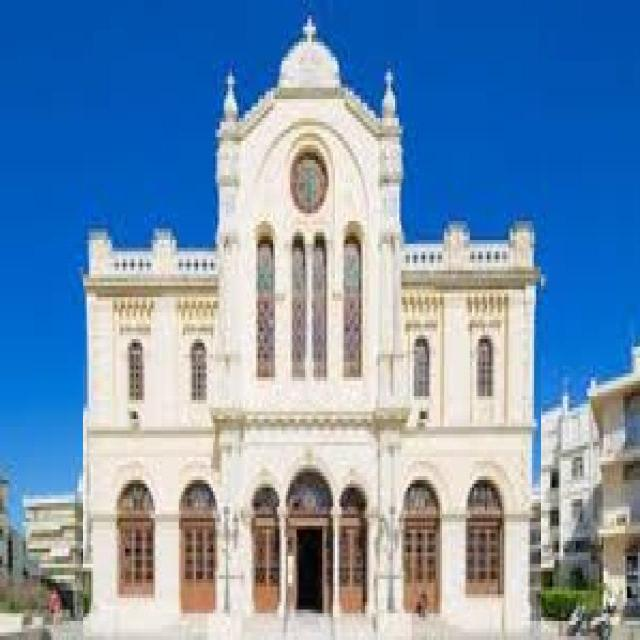Agios Minas: (84, 1, 542, 640)
